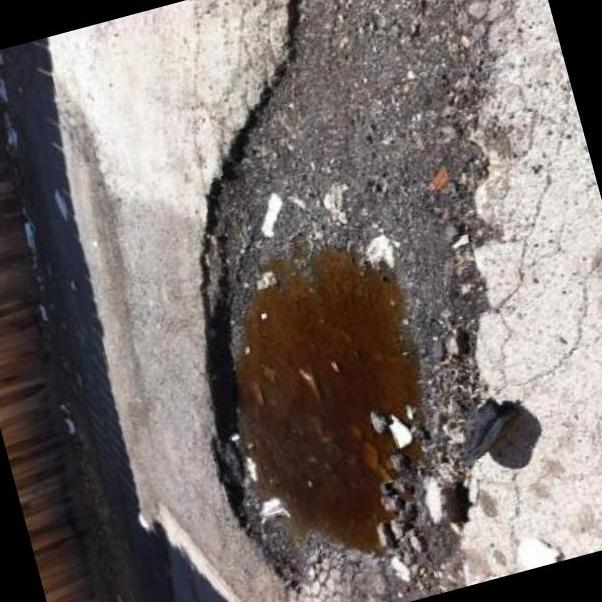pothole: (67, 0, 602, 602)
